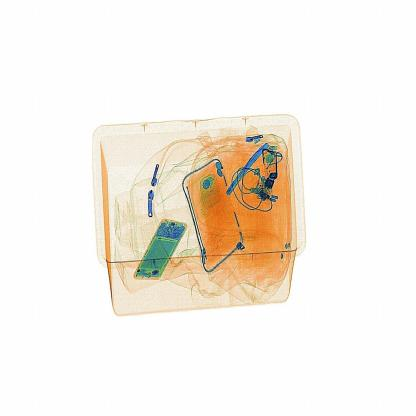pliers: (219, 129, 281, 200)
